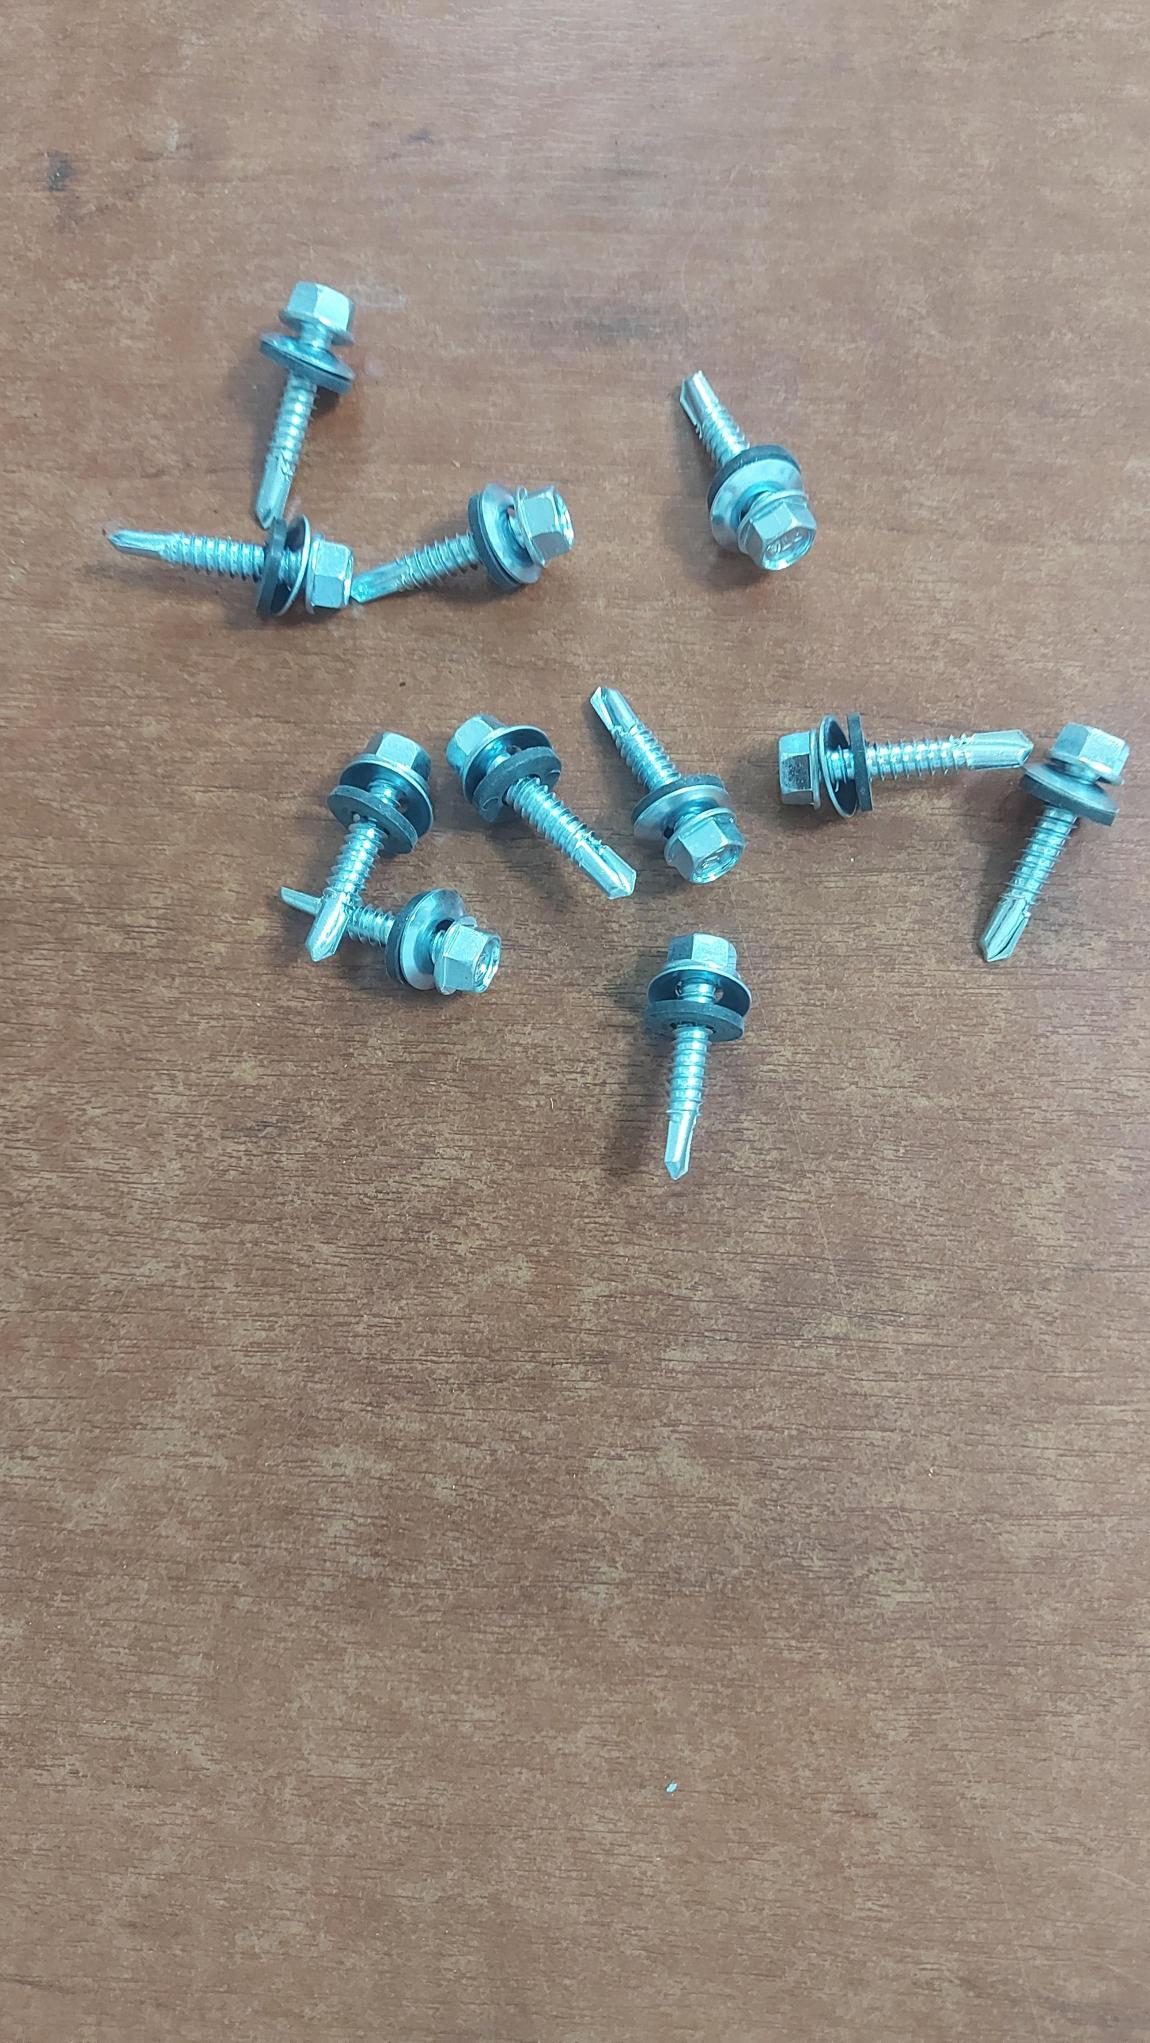Screw: (980, 724, 1128, 963), (447, 714, 635, 897), (590, 688, 745, 883), (306, 732, 432, 961), (680, 372, 816, 570), (351, 484, 572, 603), (778, 714, 1032, 817), (647, 933, 750, 1179), (108, 516, 353, 617), (254, 282, 353, 528), (345, 890, 501, 993), (280, 887, 320, 918)
